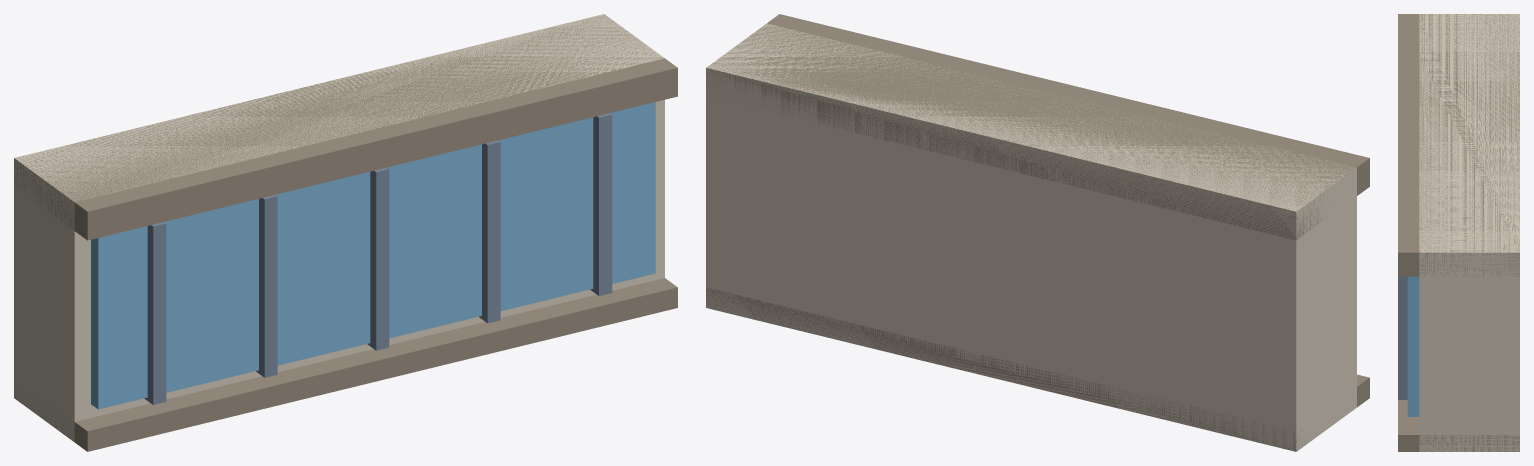
File: cittaNuovaPianoA.glb
3 views of the same model, side by side, from view 1: azimuth 30°, elevation 25°; view 2: azimuth 150°, elevation 25°; view 3: azimuth 270°, elevation 25° (orthographic). The views are drawn at different scales.
Visible parts, largest first — view 1: cittaNuovaPianoA_glass, cittaNuovaPianoA_concreteDark, cittaNuovaPianoA_concrete, cittaNuovaPianoA_steel; view 2: cittaNuovaPianoA_concrete, cittaNuovaPianoA_concreteDark; view 3: cittaNuovaPianoA_concrete, cittaNuovaPianoA_concreteDark, cittaNuovaPianoA_glass, cittaNuovaPianoA_steel.
Part boxes in pixels (<box>): cittaNuovaPianoA_glass: <box>91,102,655,409</box>; cittaNuovaPianoA_concreteDark: <box>14,14,677,451</box>; cittaNuovaPianoA_concrete: <box>14,14,664,441</box>; cittaNuovaPianoA_steel: <box>144,113,612,404</box>; cittaNuovaPianoA_concrete: <box>706,23,1356,451</box>; cittaNuovaPianoA_concreteDark: <box>706,14,1369,451</box>; cittaNuovaPianoA_concrete: <box>1419,14,1519,451</box>; cittaNuovaPianoA_concreteDark: <box>1398,14,1519,451</box>; cittaNuovaPianoA_glass: <box>1407,276,1419,416</box>; cittaNuovaPianoA_steel: <box>1398,276,1407,399</box>.
Size of the model in its own units: 9 by 3.5 by 1.94.
